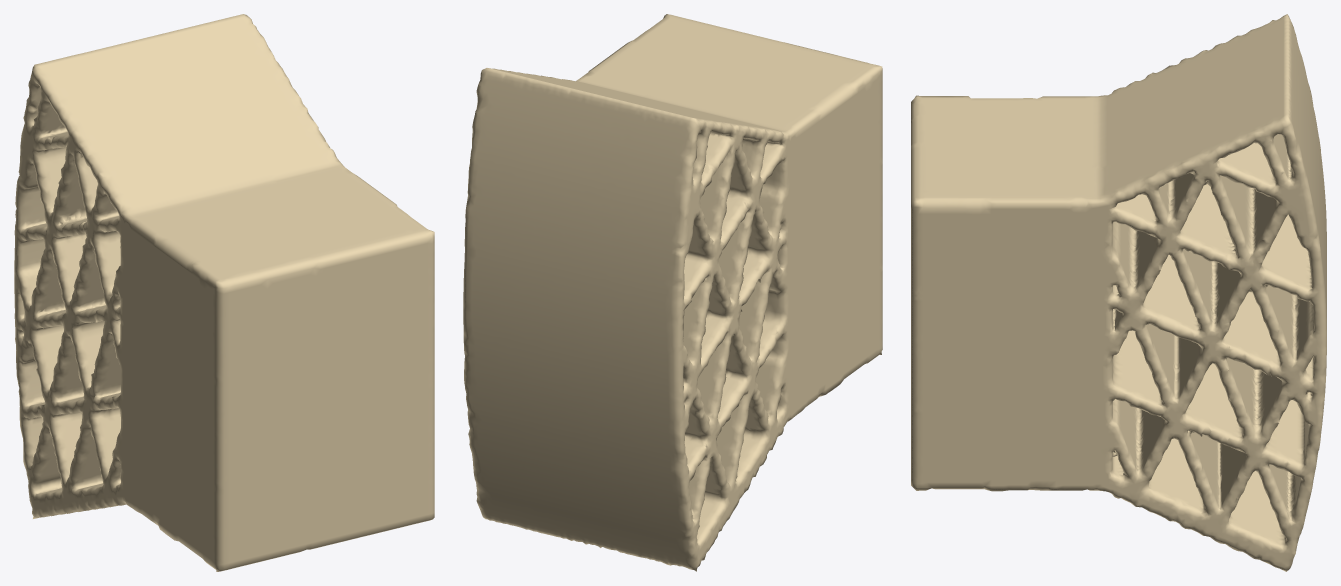
The model's file is ollie-paw-shape-015.glb.
3 renders of one model, left to right at view 1: azimuth 30°, elevation 25°; view 2: azimuth 150°, elevation 25°; view 3: azimuth 270°, elevation 25°, orthographic.
Visible parts, largest first — view 1: _Paw_SemiCirclePercent_15_; view 2: _Paw_SemiCirclePercent_15_; view 3: _Paw_SemiCirclePercent_15_.
Boxes of the visible parts, x1=… form: _Paw_SemiCirclePercent_15_: x1=14, y1=14, x2=434, y2=571; _Paw_SemiCirclePercent_15_: x1=463, y1=14, x2=882, y2=571; _Paw_SemiCirclePercent_15_: x1=911, y1=14, x2=1326, y2=571.
Size of the model in its own units: 20 by 39.88 by 33.
